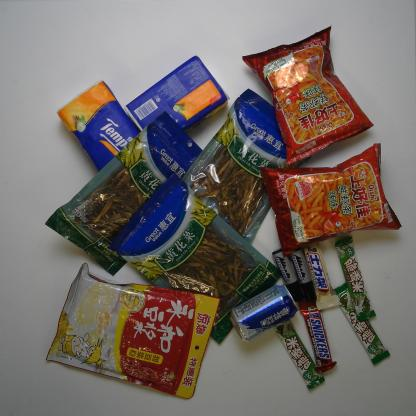Alcohol: (228, 283, 298, 344)
Chocolate: (334, 282, 390, 366), (272, 317, 326, 391), (335, 234, 377, 322), (297, 299, 338, 373), (304, 236, 342, 311)
Dried Food: (107, 169, 282, 345), (45, 110, 213, 277), (180, 88, 313, 249)
Instant Drink: (45, 262, 220, 400)
Puffed Food: (242, 25, 374, 166), (260, 142, 402, 258)
Stationery: (272, 245, 306, 304), (290, 243, 319, 303)
Tissue: (124, 55, 230, 143), (57, 80, 146, 174)
